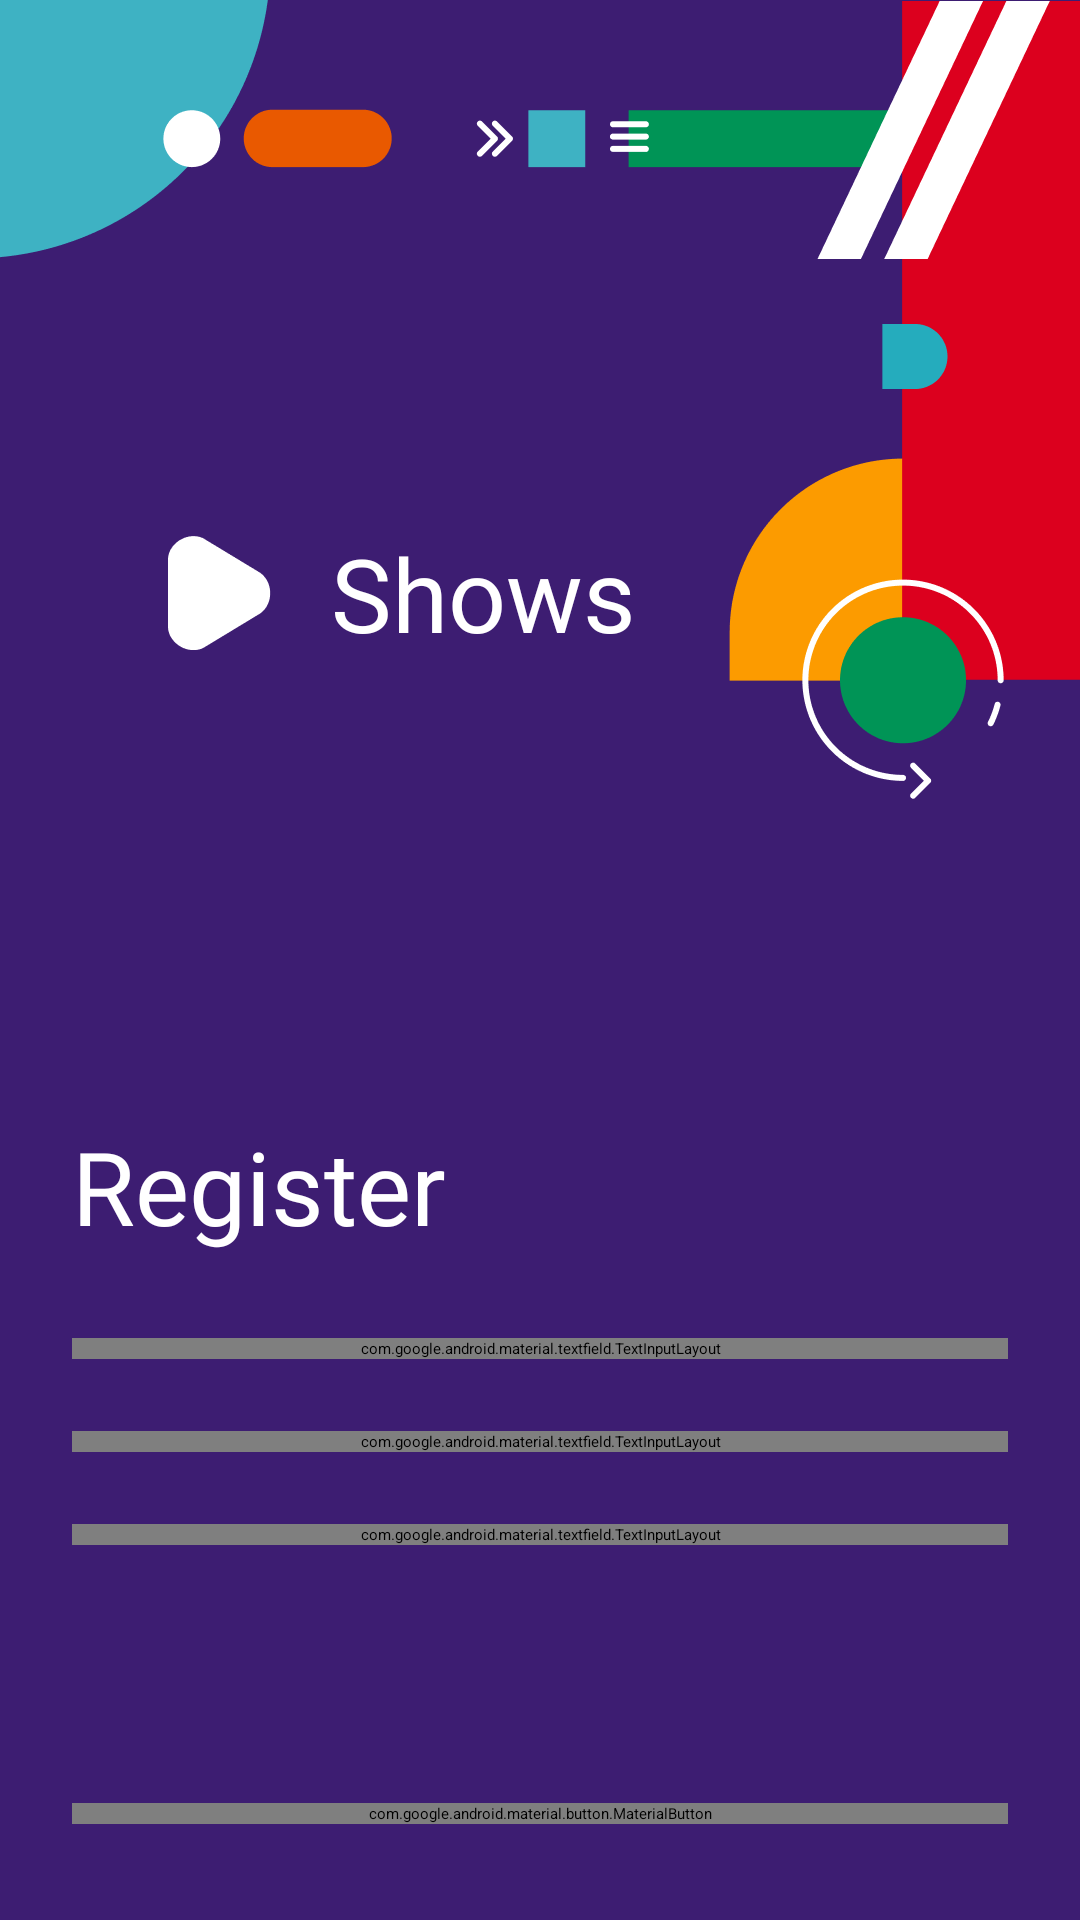

Screen size 1080*1920. Icon name, then its center in pixels as (x=x, y=y):
triangle: (x=219, y=593)
